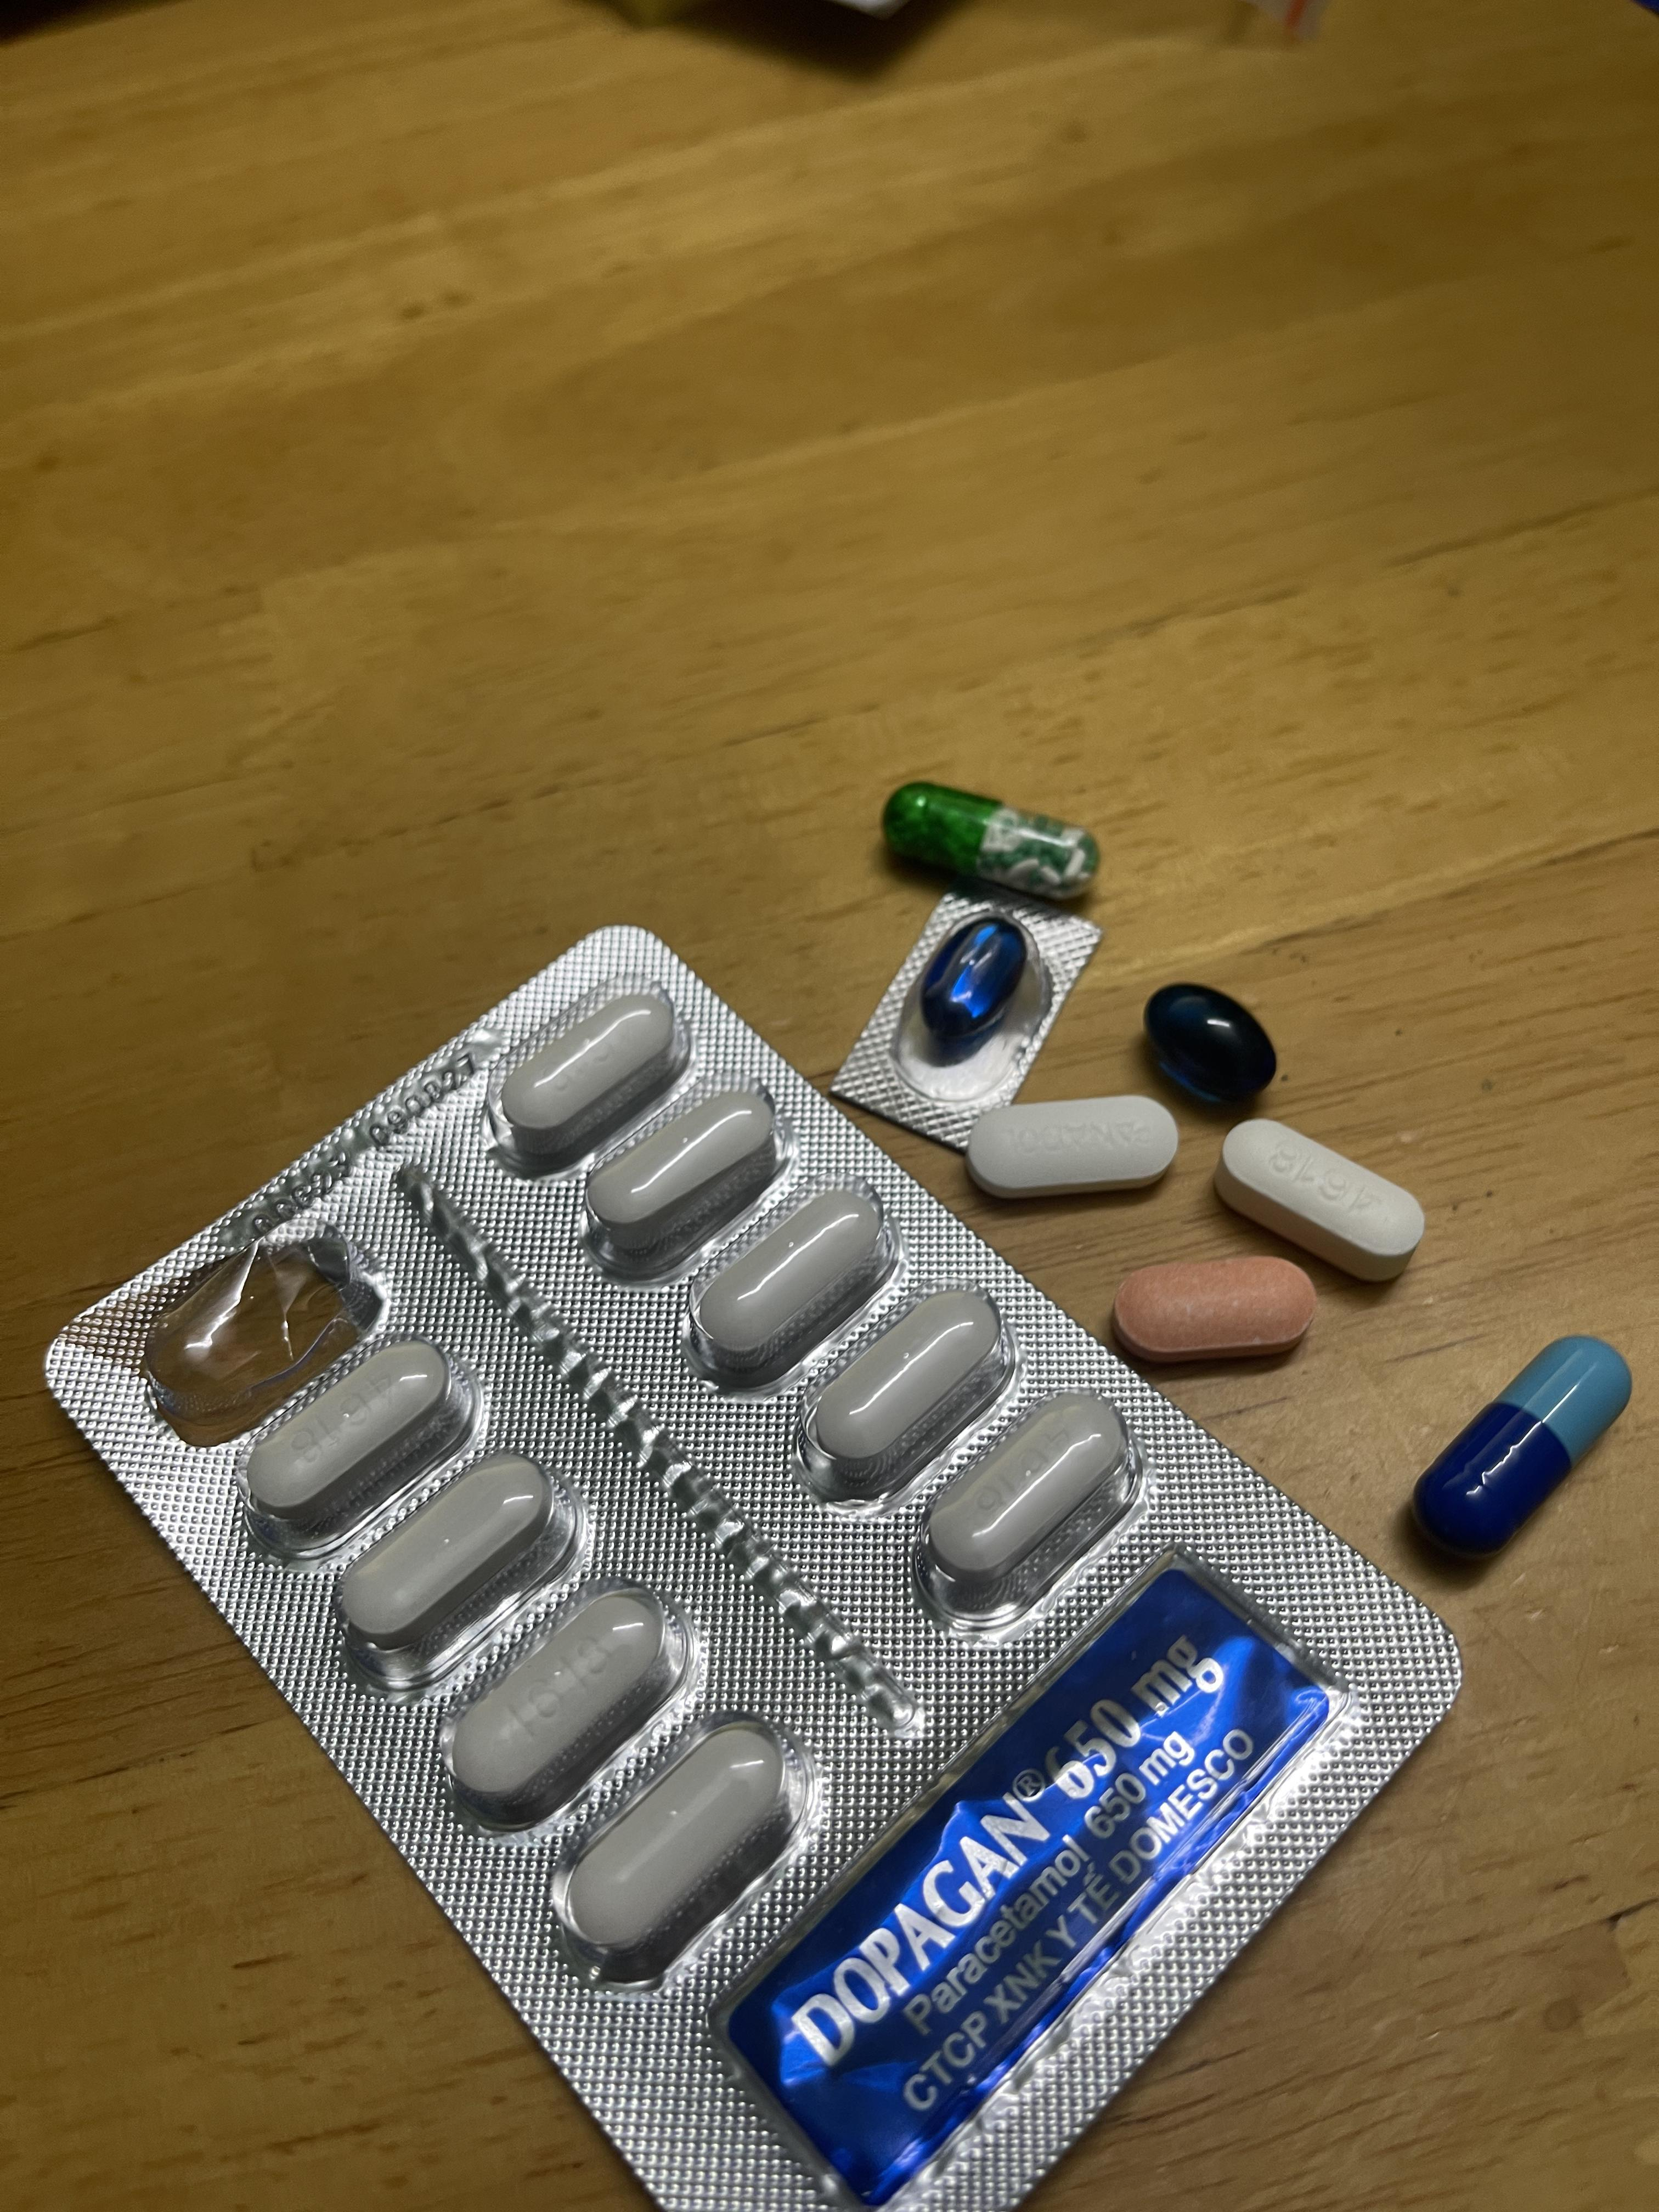Lincomyxin_500mg: (1143, 982, 1279, 1108), (917, 918, 1028, 1054)
Loratadine_10mg: (1112, 1256, 1319, 1364)
Paracetamol_350mg: (962, 1096, 1173, 1200)
Paracetamol_500mg: (443, 1576, 695, 1834), (551, 1719, 800, 1968), (326, 1447, 572, 1681), (232, 1329, 474, 1559), (911, 1390, 1133, 1632), (769, 1256, 990, 1491), (681, 1186, 899, 1397), (580, 1082, 789, 1278), (490, 986, 688, 1169), (1215, 1122, 1422, 1277)
Paracetamol_650mg: (885, 784, 1096, 904)
pill: (1417, 1339, 1629, 1552)
